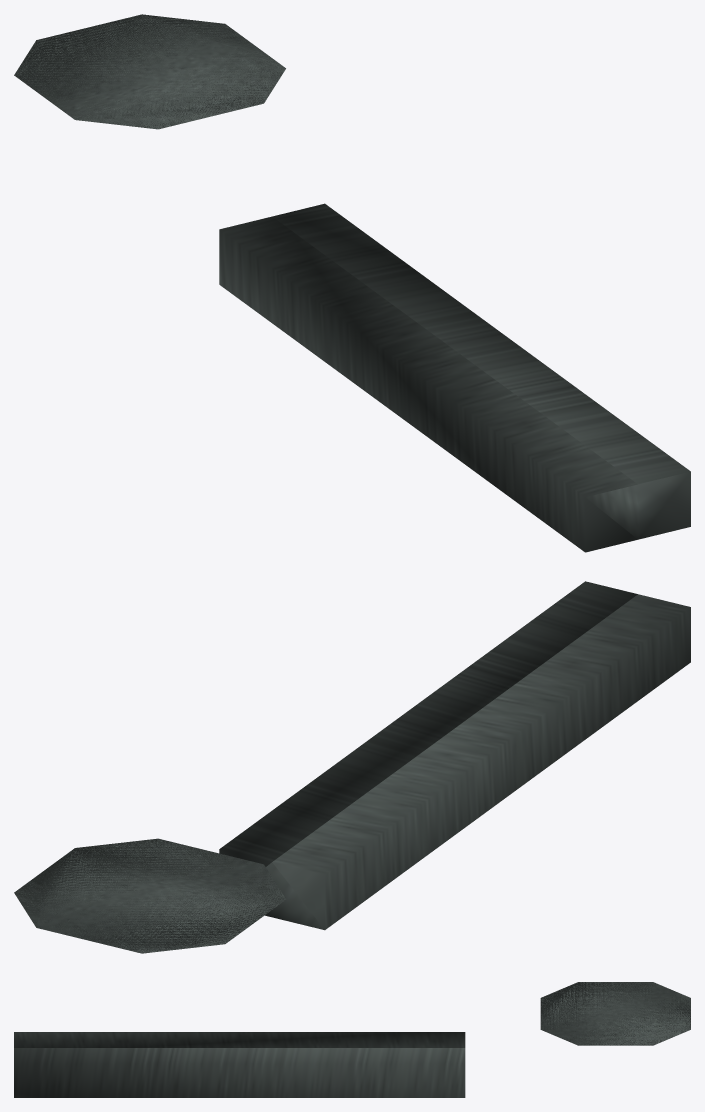
3 views of the same model, one above another, from view 1: azimuth 30°, elevation 25°; view 2: azimuth 150°, elevation 25°; view 3: azimuth 270°, elevation 25° (orthographic). The views are drawn at different scales.
Bounding box in the file's own units: 0.68 × 0.34 × 3.06.
Materials: 1 (1 with a texture image).
